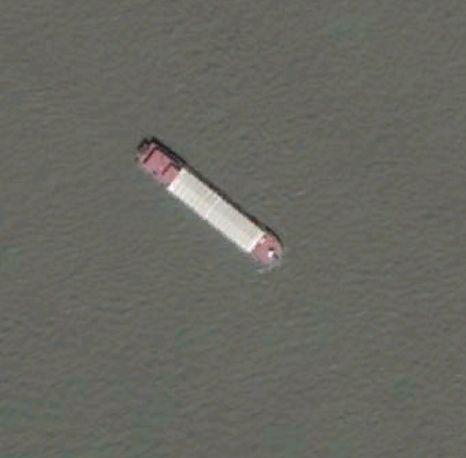Ships: (129, 124, 284, 271)
